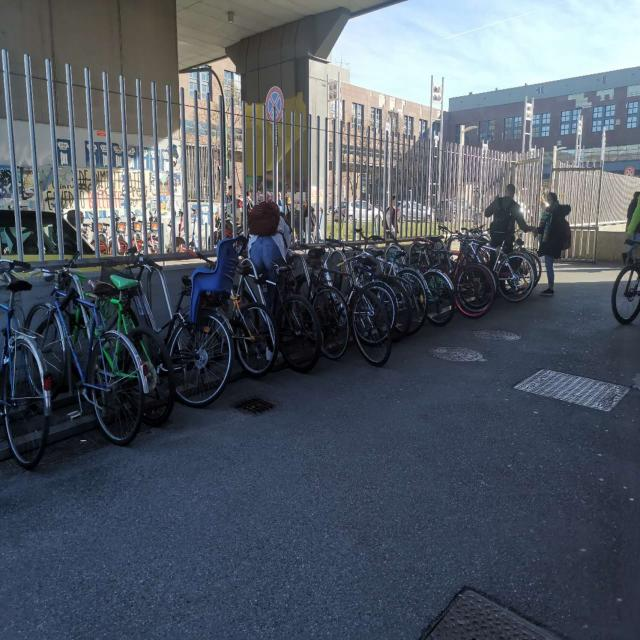Bicycle: (22, 268, 151, 447), (72, 269, 174, 429), (139, 248, 236, 413), (0, 247, 54, 479), (312, 238, 398, 379), (390, 239, 461, 331), (462, 230, 536, 308)
